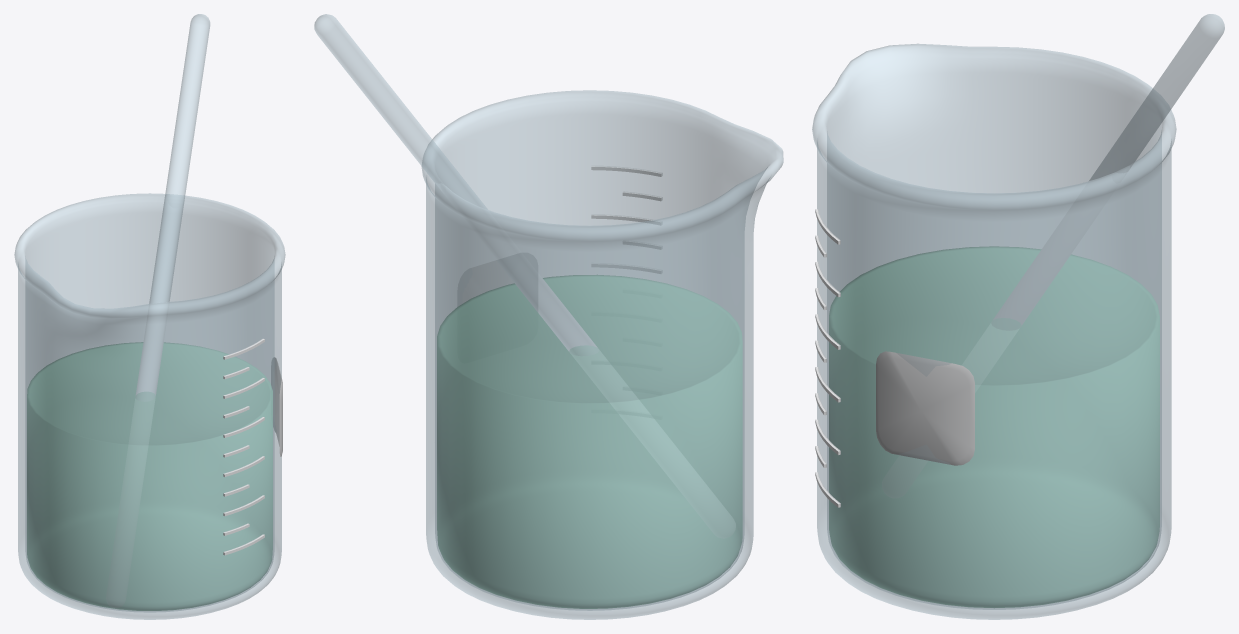
The model's file is beaker.glb.
3 renders of one model, left to right at view 1: azimuth 30°, elevation 25°; view 2: azimuth 150°, elevation 25°; view 3: azimuth 270°, elevation 25°, orthographic. The views are drawn at different scales.
Visible parts, largest first — view 1: beaker_beaker_glass, beaker_liquid_fluid, beaker_body; view 2: beaker_beaker_glass, beaker_liquid_fluid, beaker_body; view 3: beaker_beaker_glass, beaker_liquid_fluid, beaker_body.
Boxes of the visible parts, x1,y1,x2,y2 form: beaker_beaker_glass: [14, 14, 285, 619]; beaker_liquid_fluid: [27, 342, 272, 610]; beaker_body: [223, 338, 282, 555]; beaker_beaker_glass: [314, 14, 783, 619]; beaker_liquid_fluid: [437, 274, 742, 608]; beaker_body: [457, 165, 662, 311]; beaker_beaker_glass: [812, 14, 1224, 619]; beaker_liquid_fluid: [829, 246, 1159, 608]; beaker_body: [815, 209, 974, 507].
Size of the model in its own units: 0.0818 by 0.1398 by 0.0838.
3 materials, 1 textured.
